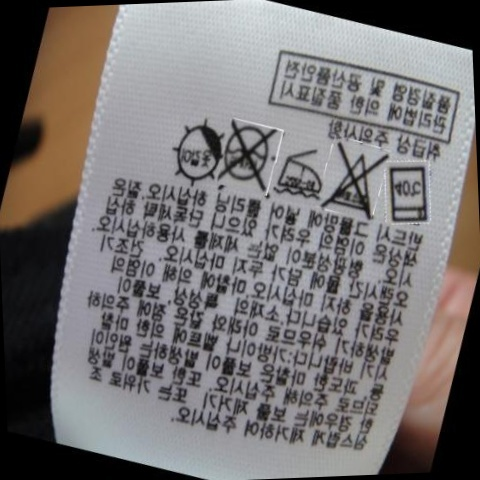40C: (385, 161, 436, 227)
DN_dry_clean: (225, 114, 272, 189)
iron_low: (276, 147, 324, 201)
line_dry_in_shade: (169, 117, 222, 185)
non_chlorine_bleach: (325, 138, 384, 218)
